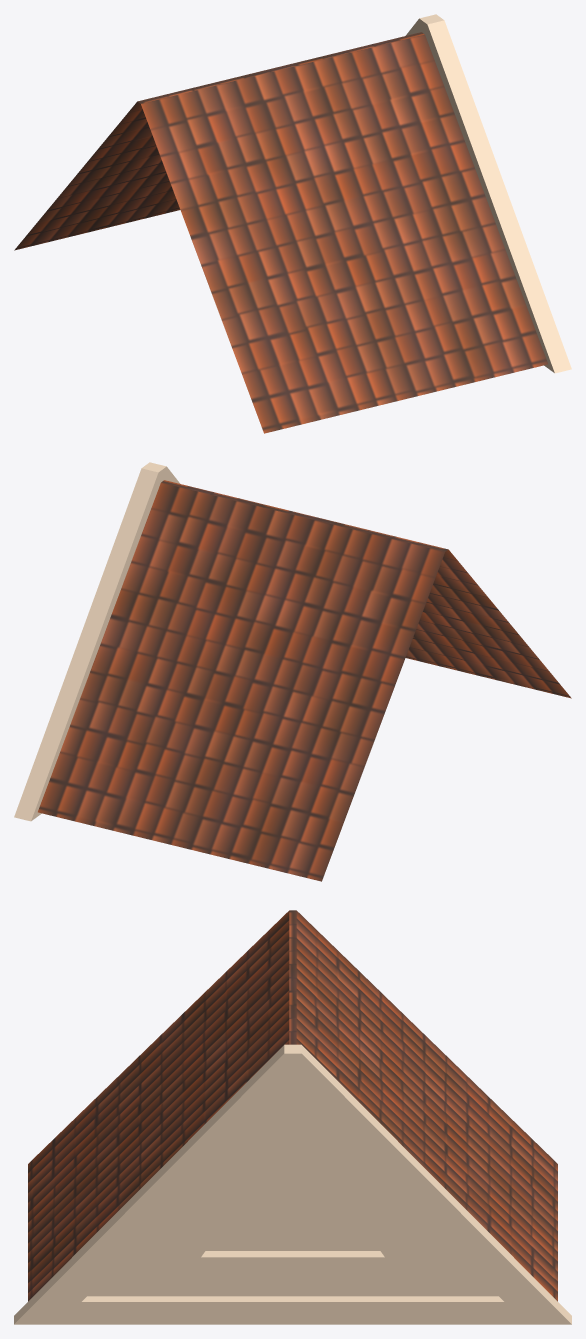
File: SideRoof.fbx
The picture shows the model from 3 angles, top to bottom: view 1: azimuth 30°, elevation 25°; view 2: azimuth 150°, elevation 25°; view 3: azimuth 270°, elevation 25°; orthographic projection. The views are drawn at different scales.
Parts seen in each view (by area): view 1: SideRoof; view 2: SideRoof; view 3: SideRoof.
Part boxes in pixels (x1,y1,x2,y2): SideRoof: (14,14,571,433); SideRoof: (14,462,571,881); SideRoof: (14,910,571,1324).
Size of the model in its own units: 415 by 337 by 629.
